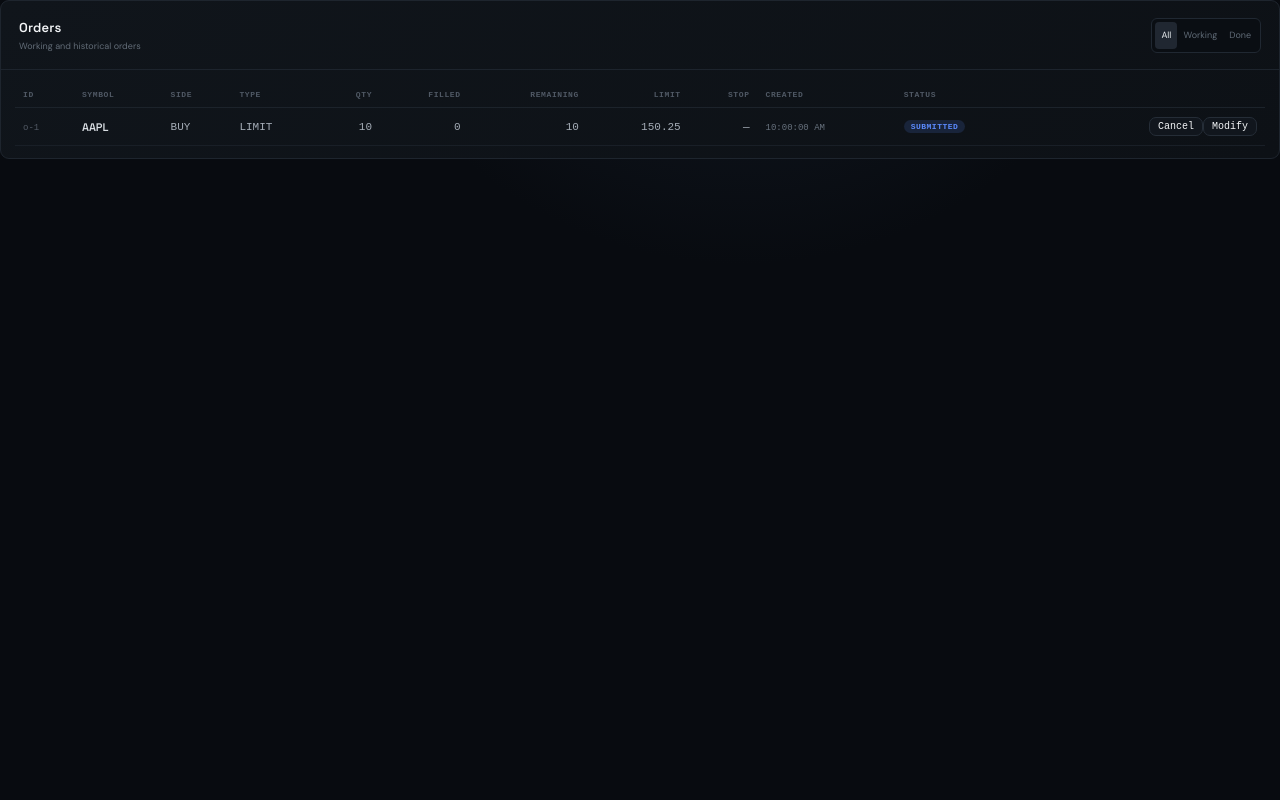
Scenario: OrderBlotter › modify dialog posts price changes and closes on success
This screenshot has width=1280, height=800.
Click the button "Modify": (1230, 126) [1203, 117, 1257, 136]
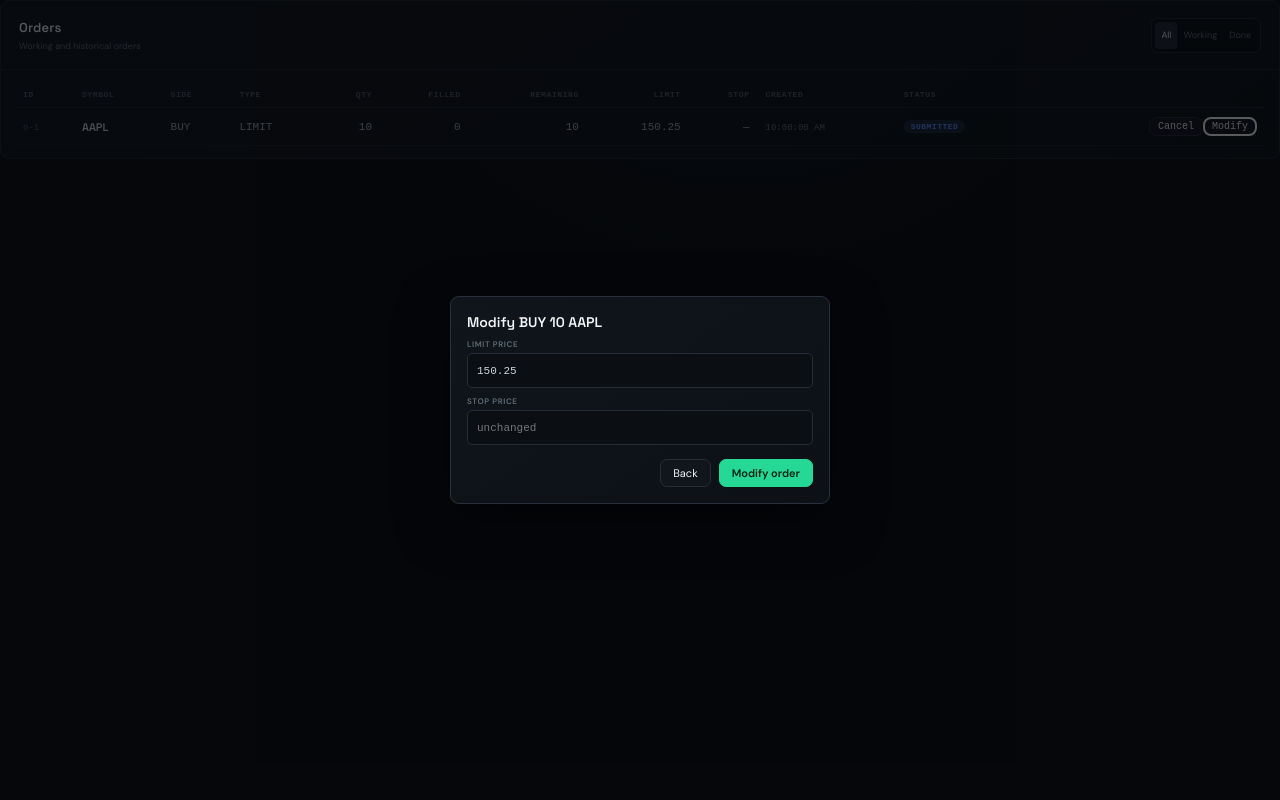
Clear the field labelled "Limit price": (640, 370) [467, 353, 813, 388]
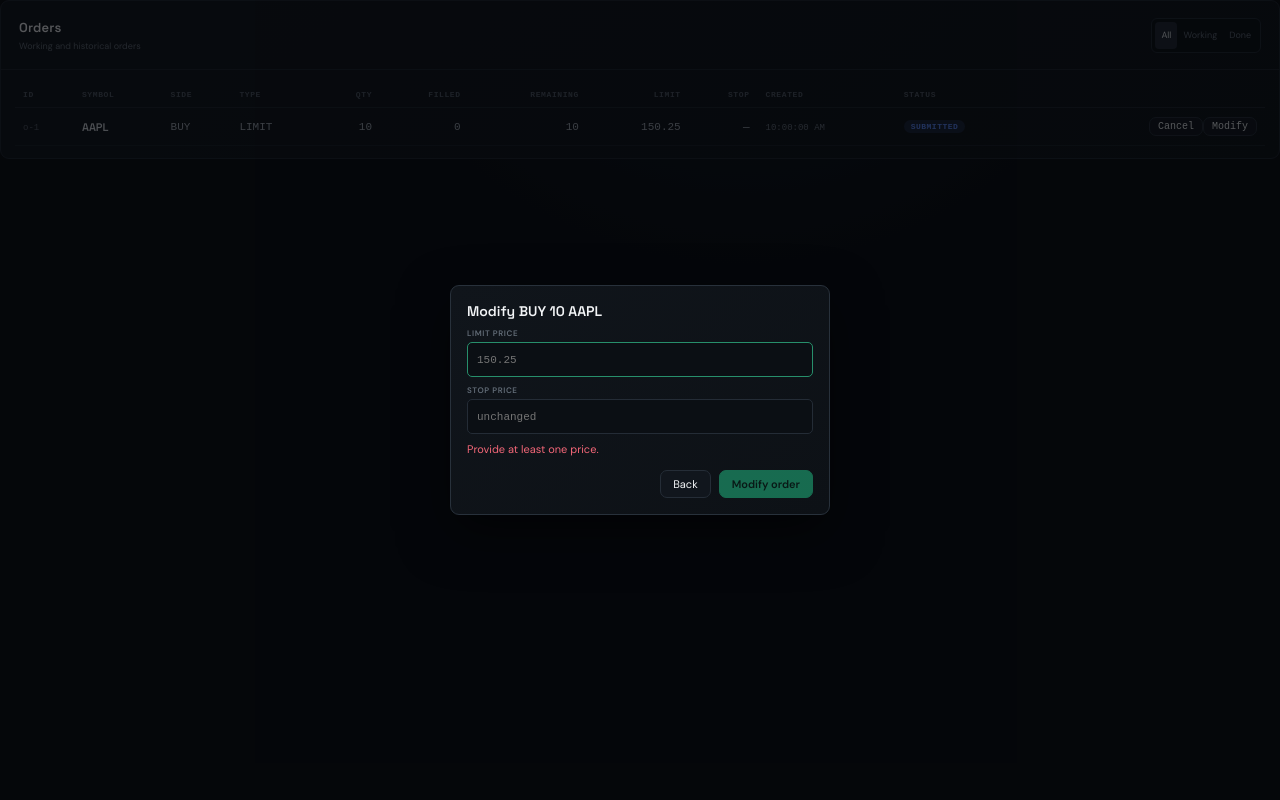
In the field labelled "Limit price": (640, 360) [467, 342, 813, 377], type "151.00"
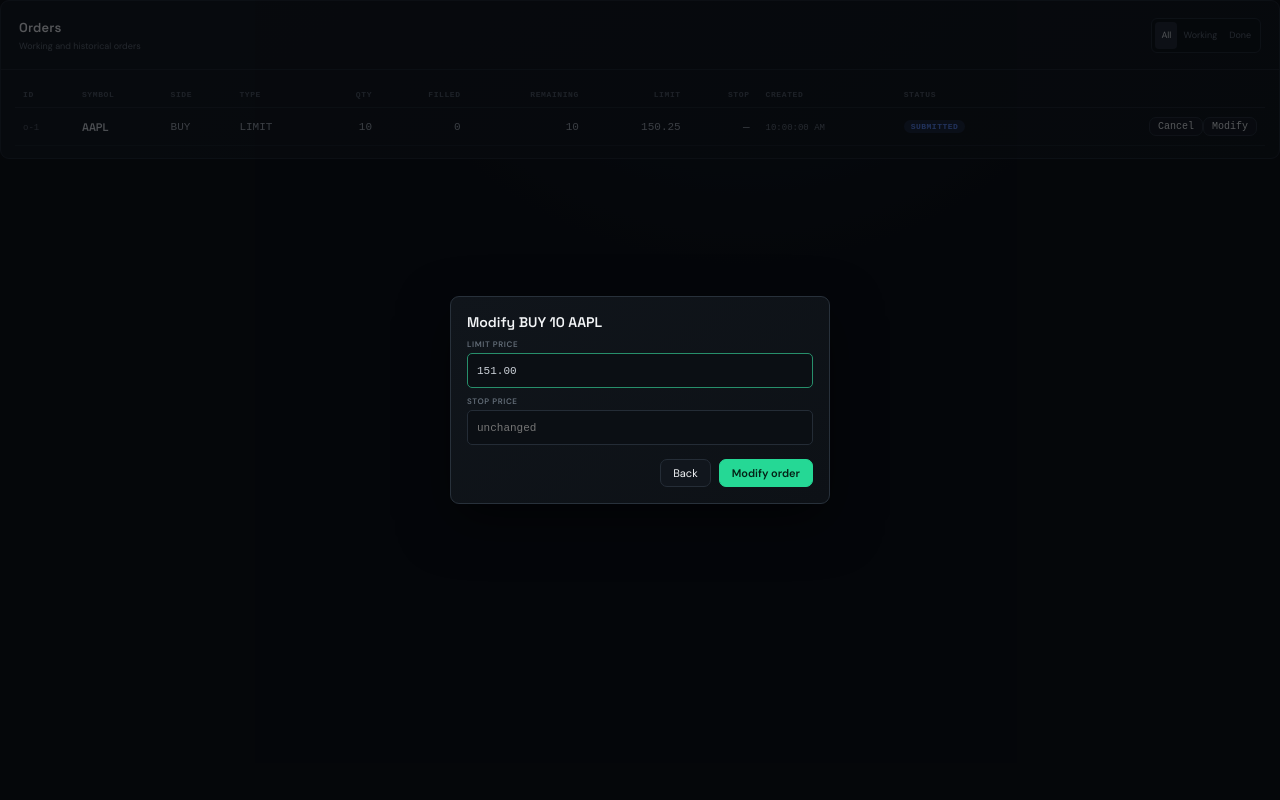
Click the button "Modify order": (766, 473) [719, 459, 813, 487]
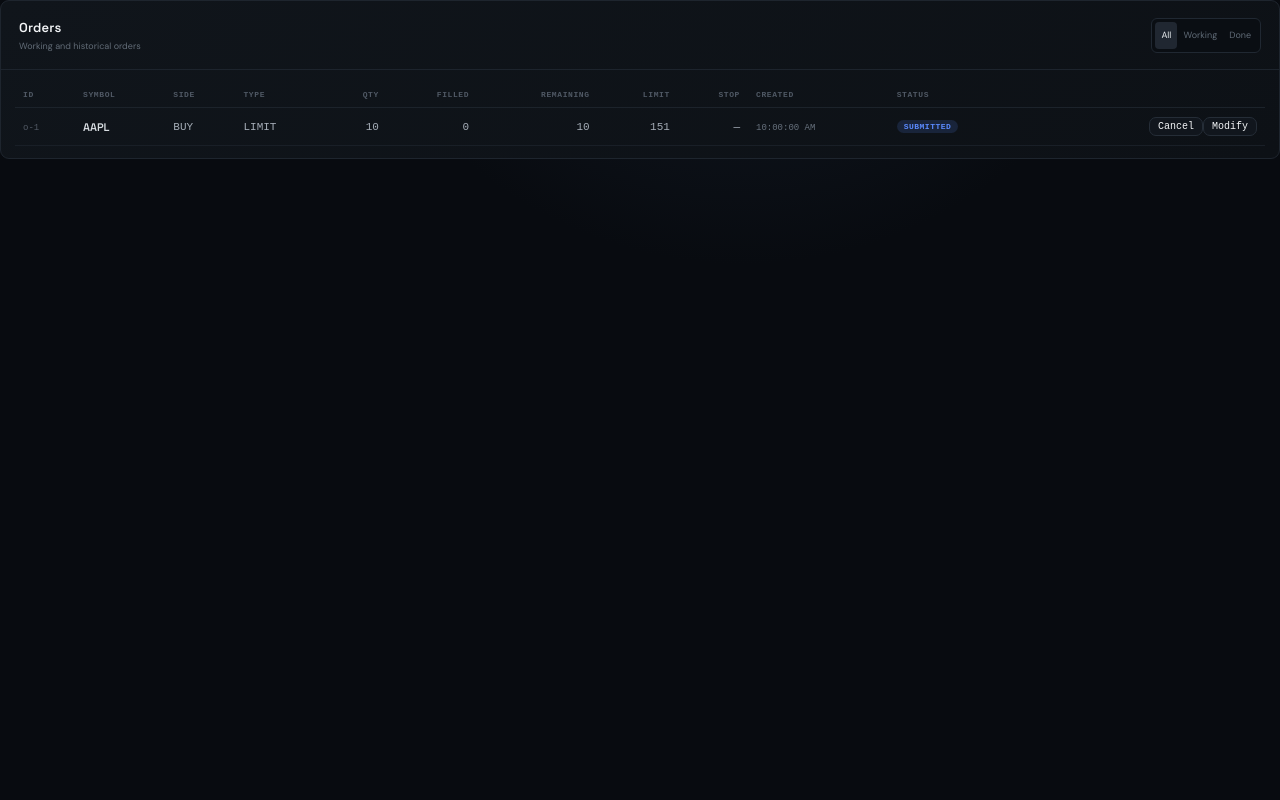
Expected: the text "151" is shown, [598, 108, 678, 146]
Expected: the dialog is gone
